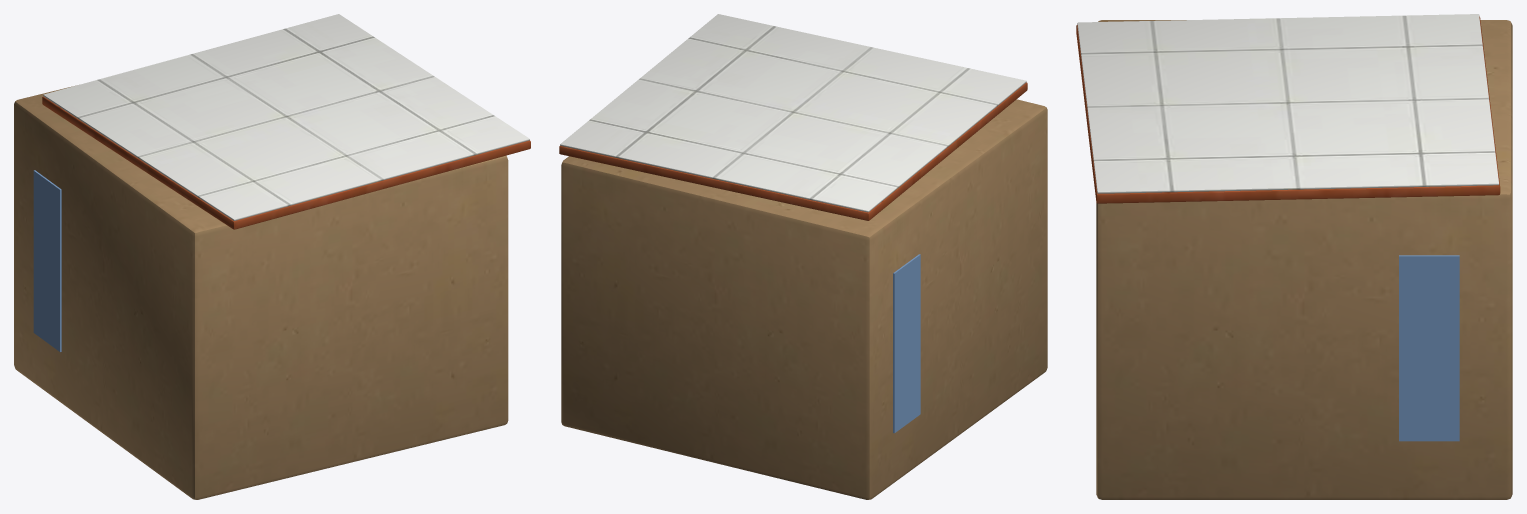
File: REV-CER-001.glb
3 renders of one model, left to right at view 1: azimuth 30°, elevation 25°; view 2: azimuth 150°, elevation 25°; view 3: azimuth 270°, elevation 25°, orthographic. The views are drawn at different scales.
Visible parts, largest first — view 1: REV-CER-001_caixa, REV-CER-001_face, REV-CER-001_faixa, REV-CER-001_corpo; view 2: REV-CER-001_caixa, REV-CER-001_face, REV-CER-001_faixa, REV-CER-001_corpo; view 3: REV-CER-001_caixa, REV-CER-001_face, REV-CER-001_faixa, REV-CER-001_corpo.
Boxes of the visible parts, box(x1,y1,x2,y2) form: REV-CER-001_caixa: box(14, 85, 508, 499); REV-CER-001_face: box(43, 14, 529, 220); REV-CER-001_faixa: box(33, 170, 61, 351); REV-CER-001_corpo: box(42, 96, 530, 229); REV-CER-001_caixa: box(561, 99, 1047, 499); REV-CER-001_face: box(560, 14, 1026, 212); REV-CER-001_faixa: box(893, 254, 920, 433); REV-CER-001_corpo: box(559, 82, 1027, 220); REV-CER-001_caixa: box(1096, 20, 1512, 499); REV-CER-001_face: box(1077, 14, 1499, 193); REV-CER-001_faixa: box(1399, 255, 1459, 441); REV-CER-001_corpo: box(1076, 16, 1500, 203).
Size of the model in its own units: 0.2208 by 0.1756 by 0.2158.
Materials: 6 (4 with a texture image).
